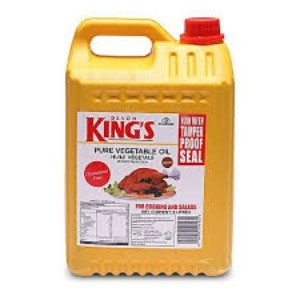vegetable oil_brain food: (69, 73, 222, 234)
